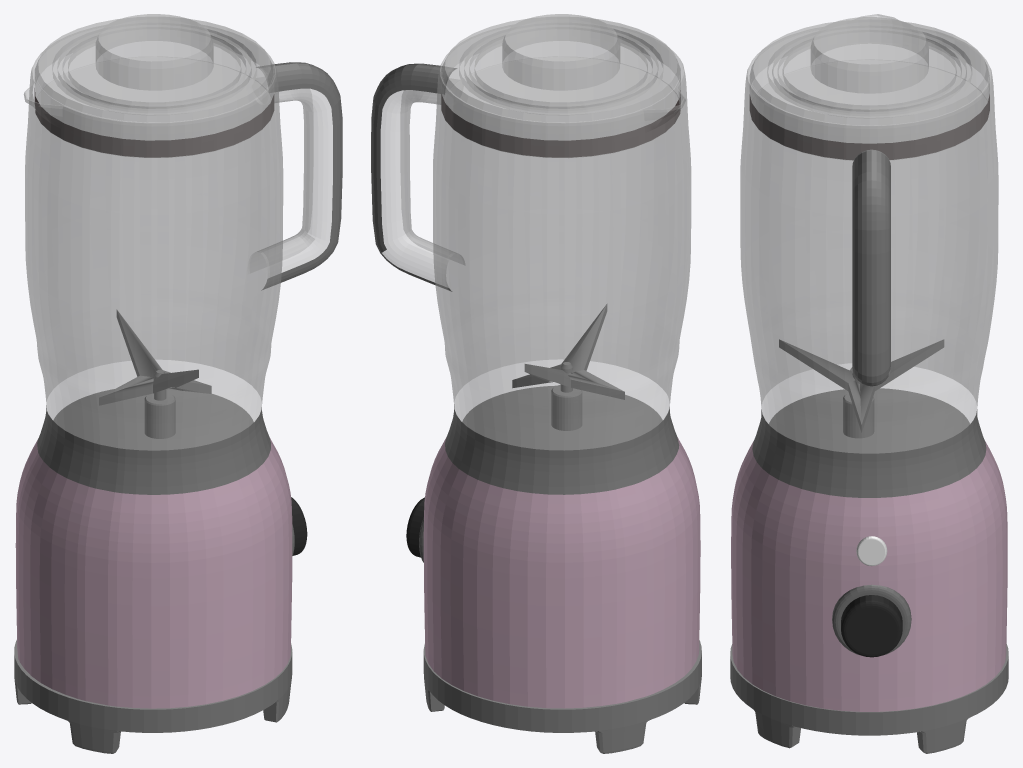
Rendered from 323f4537-9504-4455-ab53-bffb8c5ea13e.glb.
3 views of the same model, side by side, from view 1: azimuth 30°, elevation 25°; view 2: azimuth 150°, elevation 25°; view 3: azimuth 270°, elevation 25° (orthographic).
Parts seen in each view (by area): view 1: Star001; view 2: Star001; view 3: Star001.
Part boxes in pixels (box(x1,y1,x2,y2)): Star001: box(14, 14, 342, 753); Star001: box(371, 14, 701, 753); Star001: box(730, 14, 1008, 753).
Bounding box in the file's own units: 133 × 269 × 103.
